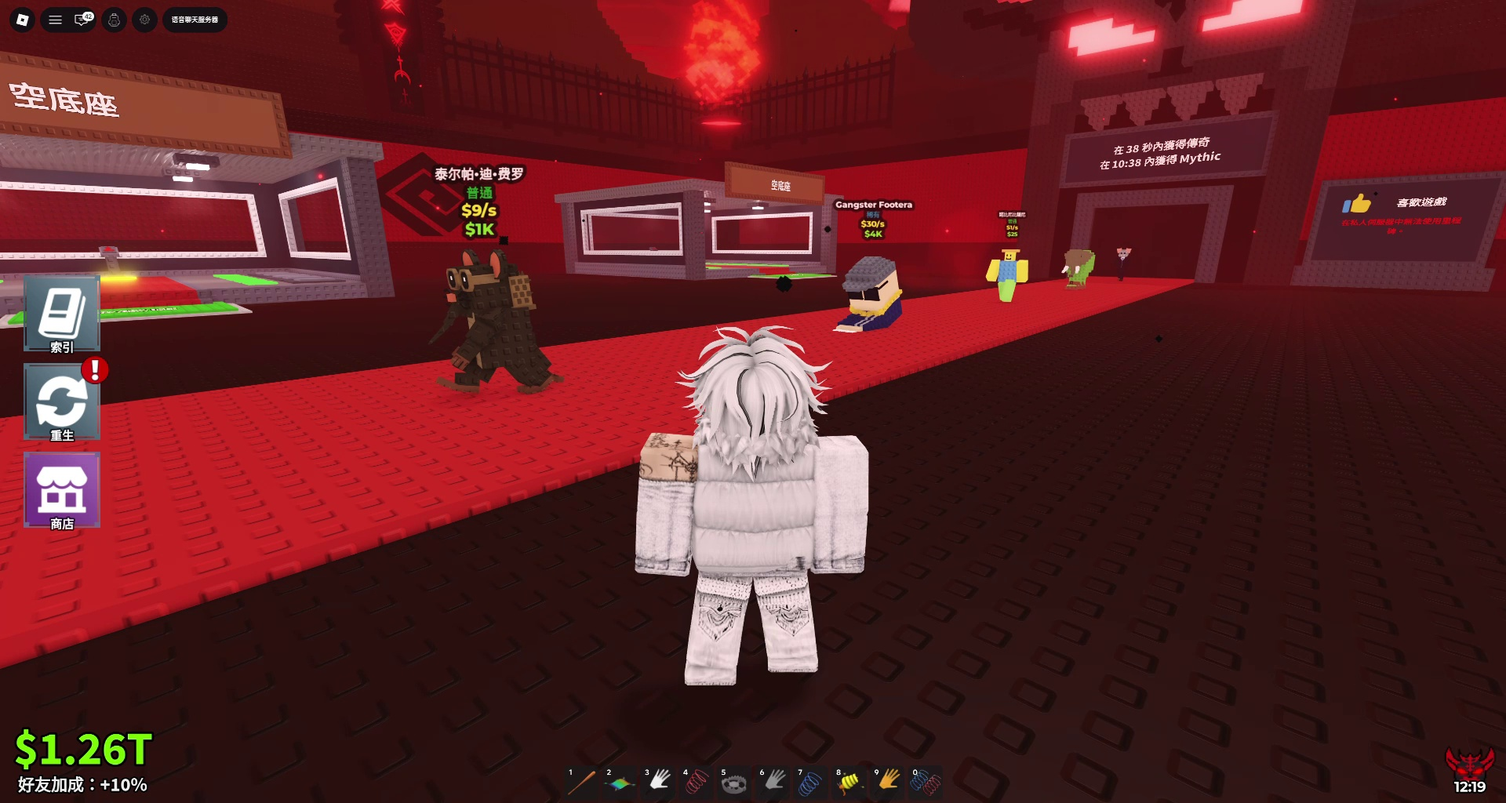price_tag: (95, 155, 172, 205), (779, 191, 812, 217)
